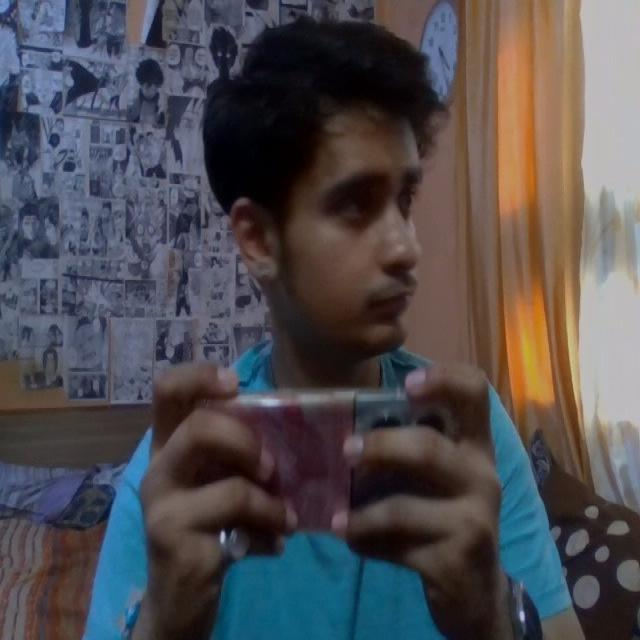phone: (180, 394, 456, 532)
using-phone: (80, 20, 584, 640)
